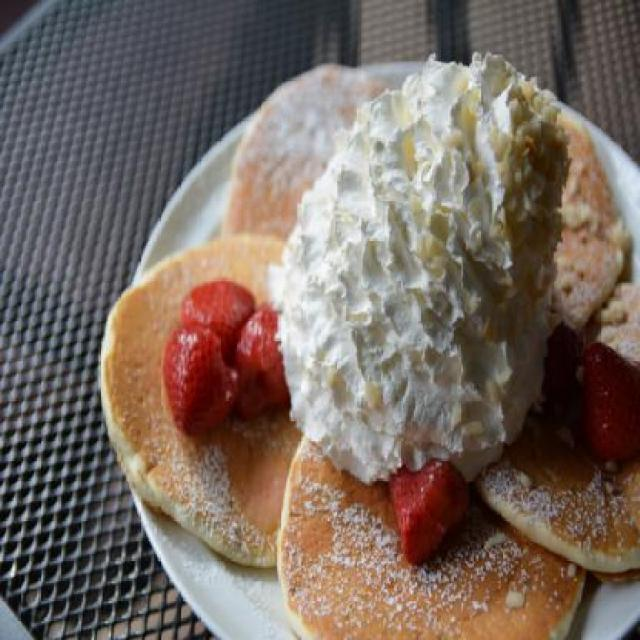Pancake: (89, 256, 328, 594), (472, 111, 638, 575), (277, 433, 586, 639), (222, 65, 396, 242)
